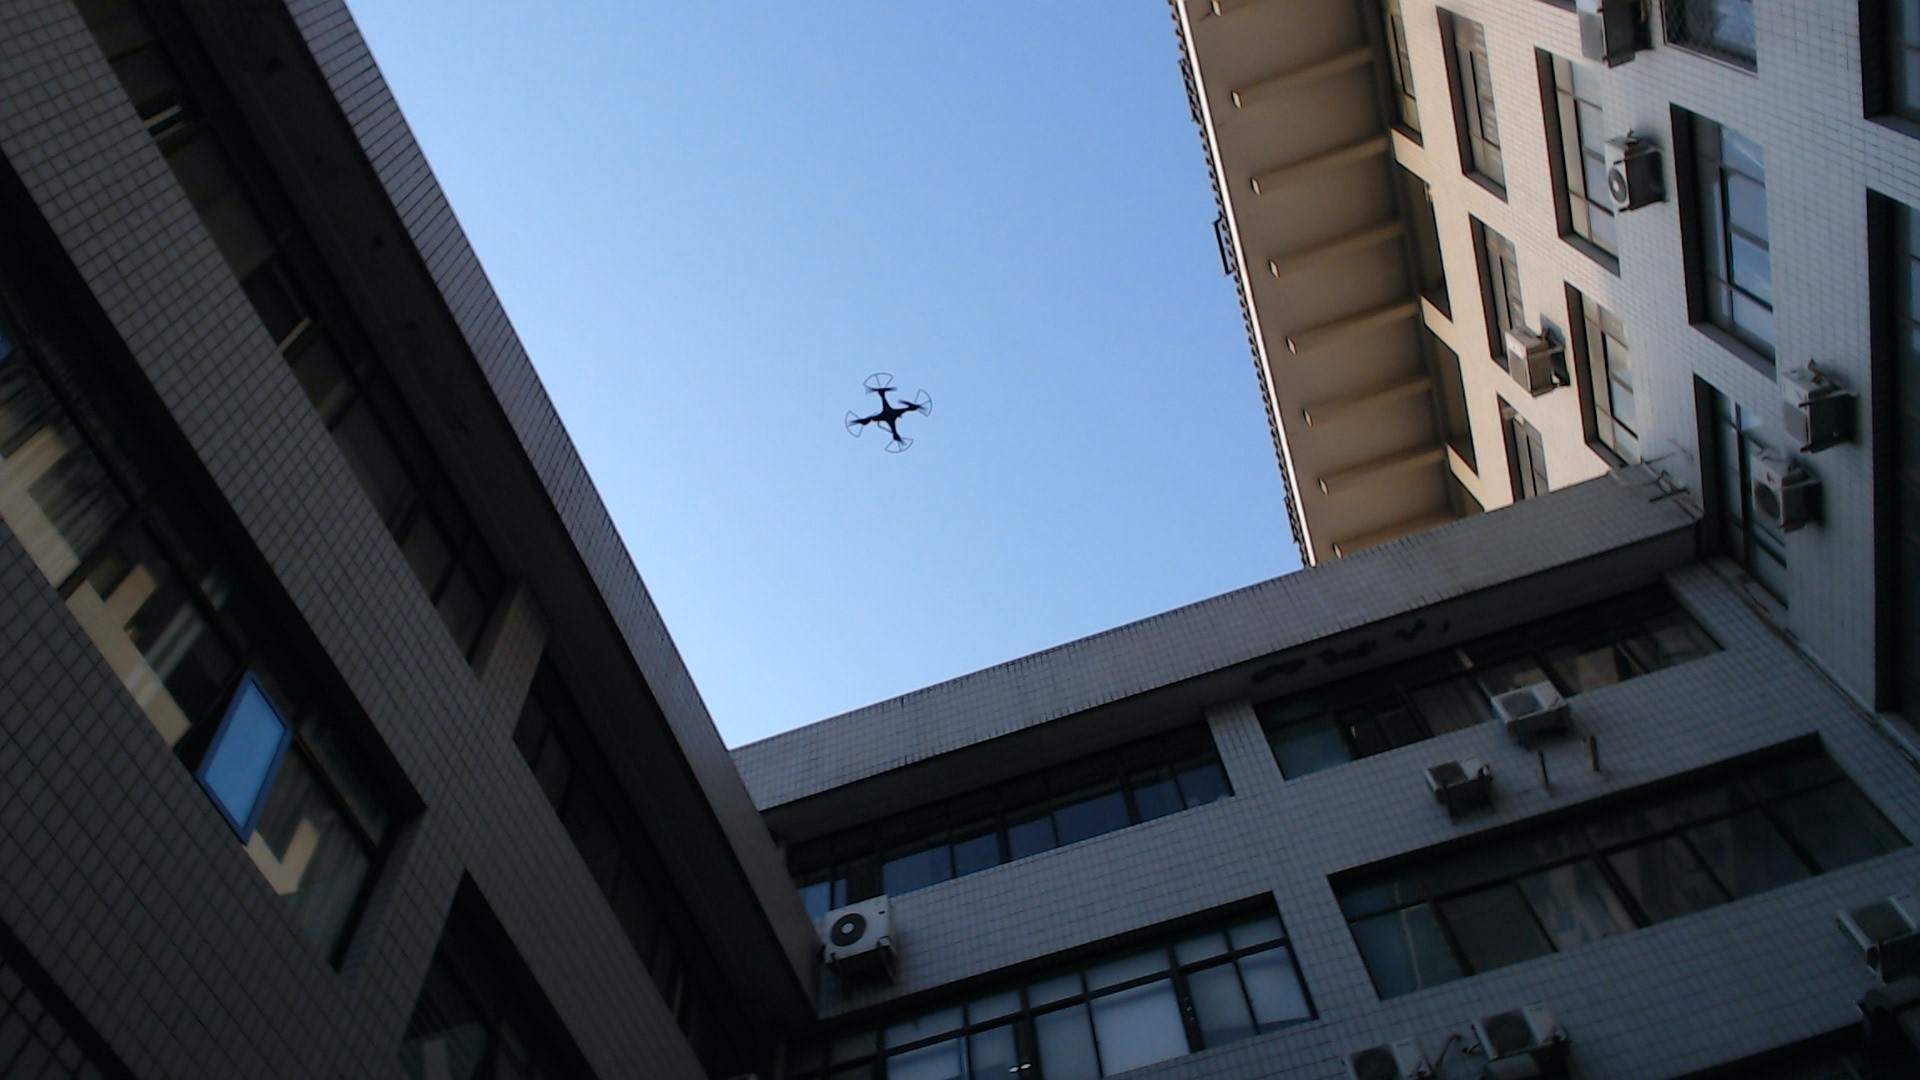drone: (837, 347, 943, 463)
